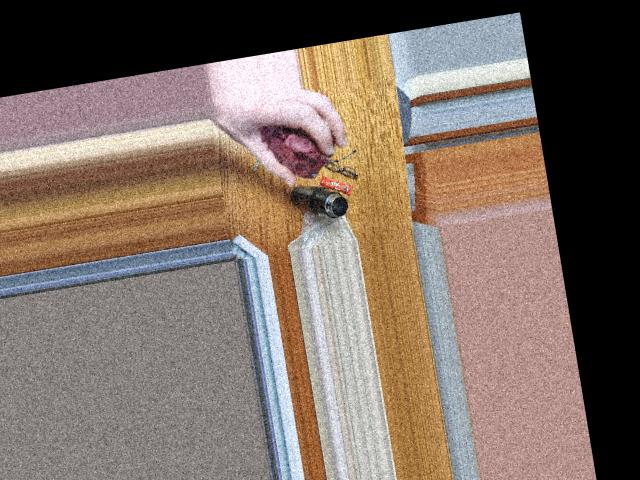onion: (265, 112, 339, 178)
